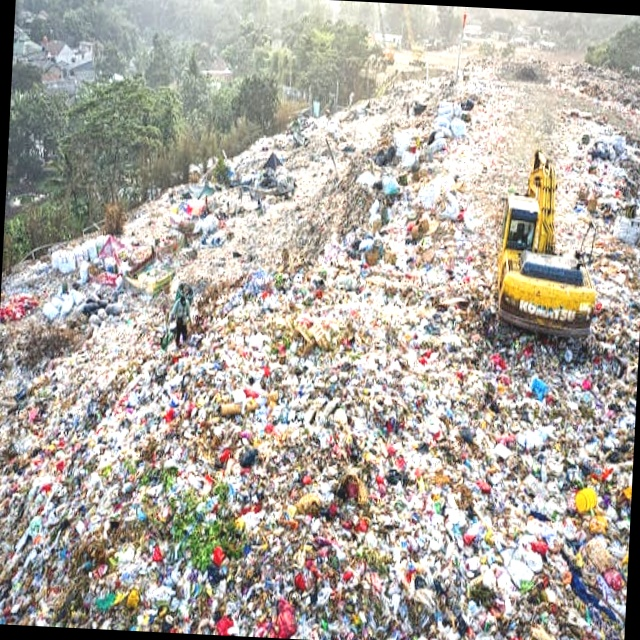contaminated_water: (13, 13, 627, 627)
foam_scum: (0, 0, 640, 640)
turbid_water: (0, 0, 640, 640)
